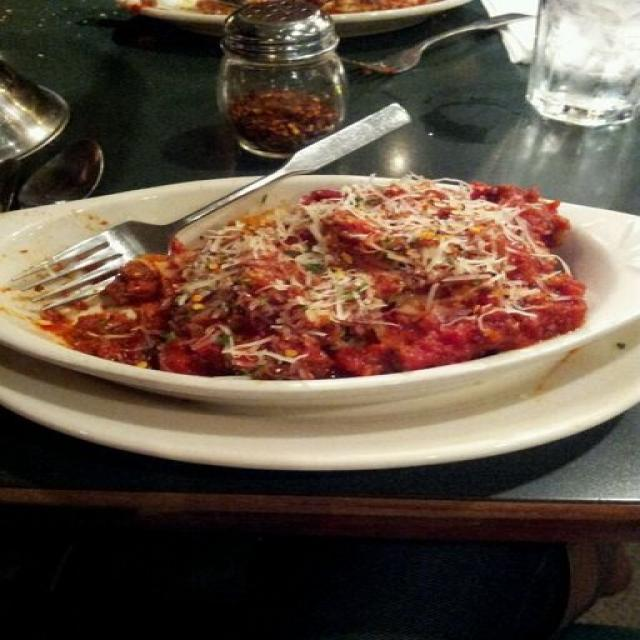Lasagna: (85, 180, 569, 372)
